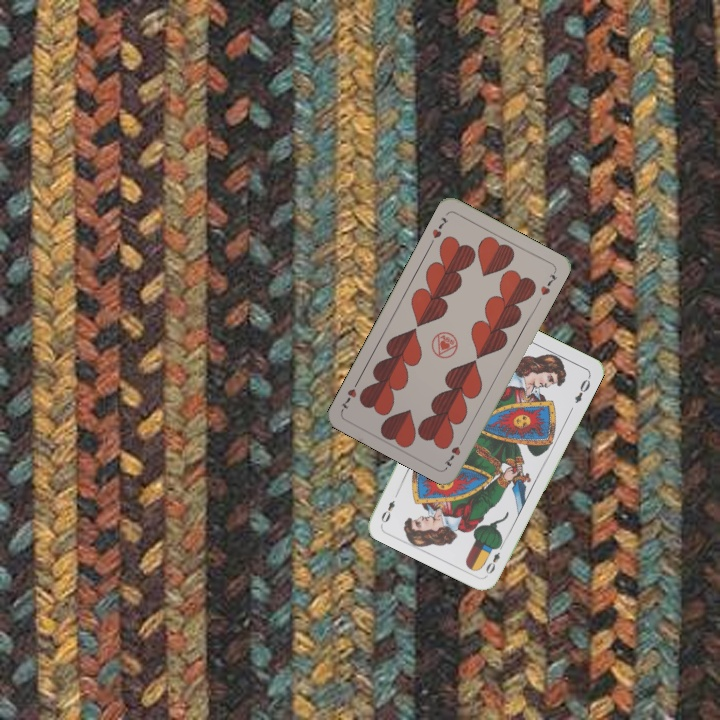EO: (482, 539, 507, 577)
H7: (441, 433, 467, 470), (426, 213, 451, 248)
